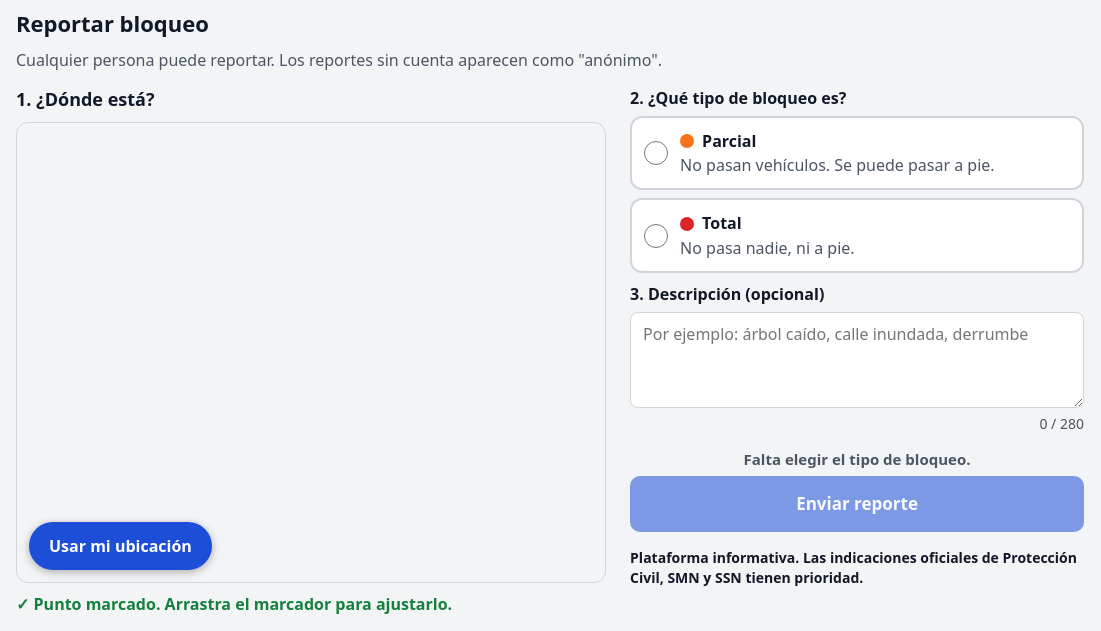
Test case: ReportarBloqueo › no deja enviar sin punto o sin tipo
Check: the button "Enviar reporte" is disabled, box [630,476,1084,532]
Check: the text "Falta elegir el tipo de bloqueo." is shown, box [744,449,970,469]
Click the radio button labelled "Parcial No pasan vehículos. Se puede pasar a pie.": (656, 153) [644,141,668,165]
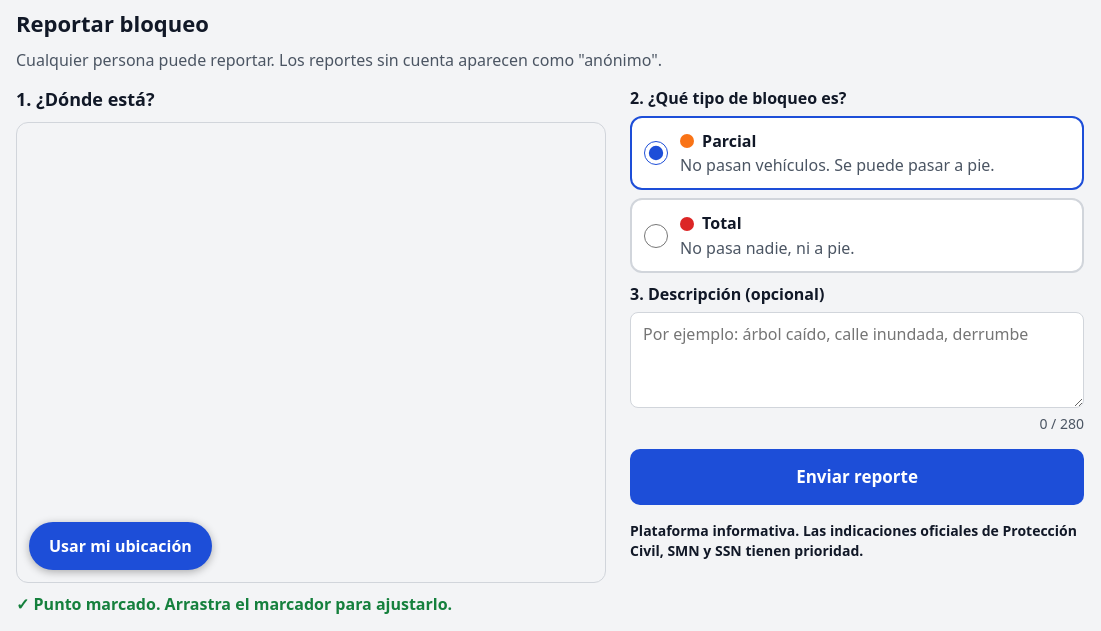
Check: the button "Enviar reporte" is enabled, box [630,449,1084,505]
